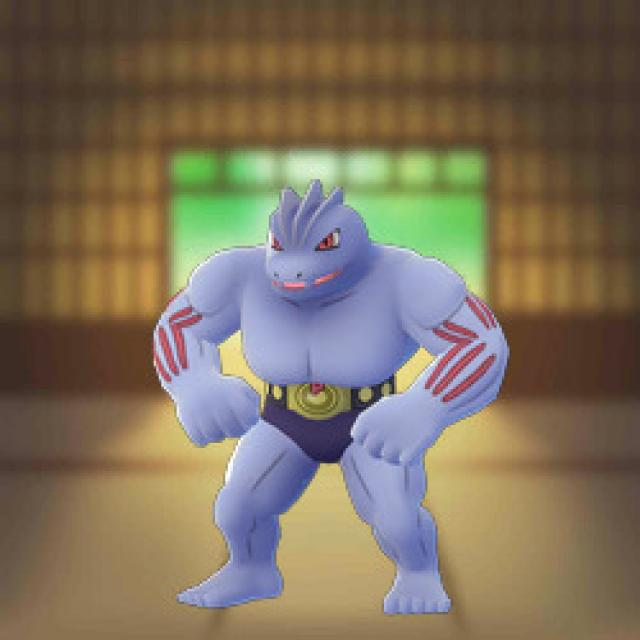Machoke: (169, 190, 509, 613)
